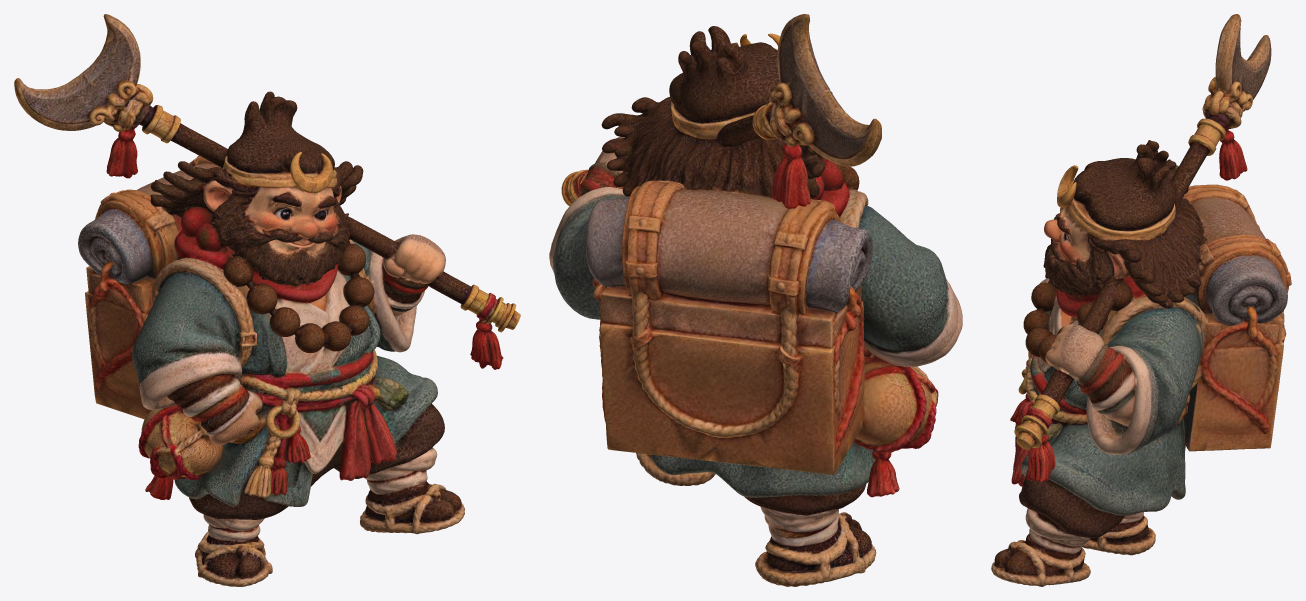
File: sha-seng-home.glb
3 renders of one model, left to right at view 1: azimuth 30°, elevation 25°; view 2: azimuth 150°, elevation 25°; view 3: azimuth 270°, elevation 25°, orthographic. The views are drawn at different scales.
Parts seen in each view (by area): view 1: tripo_node_e9580c49-e3f4-4c9a-81c3-4da3d8d30cf4; view 2: tripo_node_e9580c49-e3f4-4c9a-81c3-4da3d8d30cf4; view 3: tripo_node_e9580c49-e3f4-4c9a-81c3-4da3d8d30cf4.
Part boxes in pixels (left/top/right/bottom): tripo_node_e9580c49-e3f4-4c9a-81c3-4da3d8d30cf4: left=14, top=14, right=520, bottom=586; tripo_node_e9580c49-e3f4-4c9a-81c3-4da3d8d30cf4: left=549, top=14, right=962, bottom=586; tripo_node_e9580c49-e3f4-4c9a-81c3-4da3d8d30cf4: left=991, top=14, right=1291, bottom=586.
Bounding box in the file's own units: 0.7531 × 0.9785 × 0.5335.
Materials: 1 (1 with a texture image).
